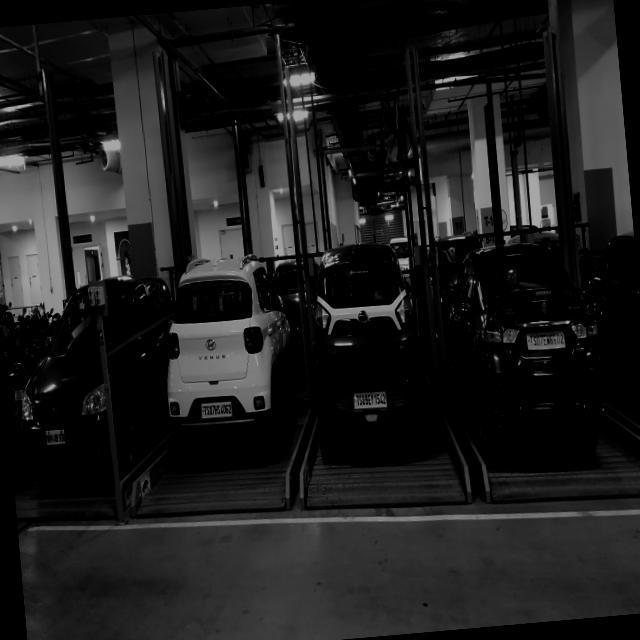car: (321, 296, 428, 483), (488, 305, 608, 466), (175, 316, 277, 476), (40, 332, 134, 502)
